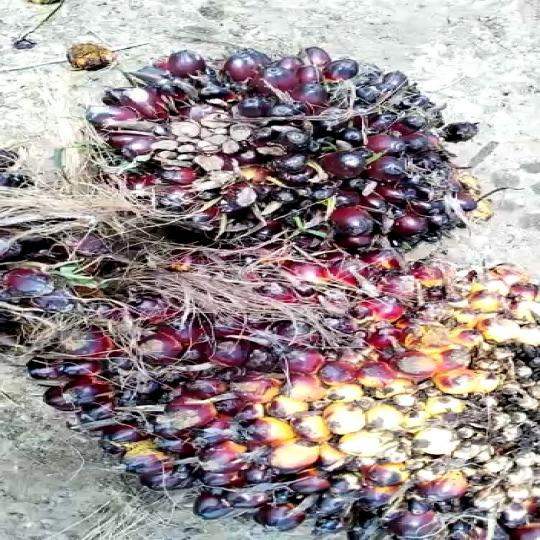kurang masak: (0, 252, 540, 540), (93, 40, 504, 272)
